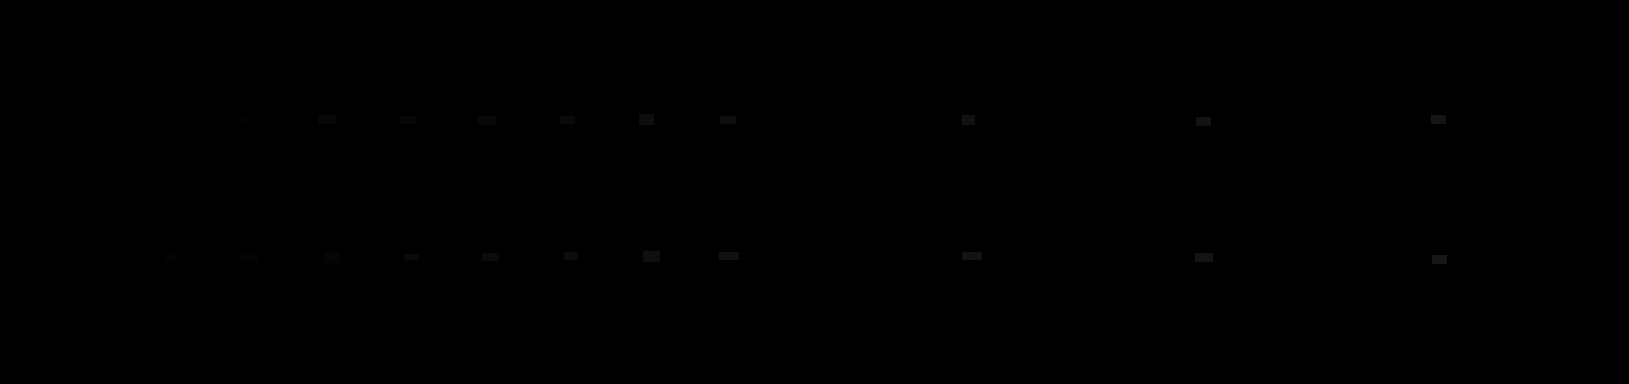light: (643, 251, 660, 262), (719, 252, 739, 260), (962, 252, 982, 260), (324, 252, 340, 263), (639, 114, 655, 125), (1195, 253, 1213, 262), (318, 115, 336, 124), (478, 116, 496, 125), (238, 116, 253, 125), (1196, 117, 1211, 126), (1431, 115, 1446, 124), (1432, 255, 1447, 264), (240, 254, 258, 262), (482, 253, 499, 260), (164, 252, 177, 262), (962, 115, 974, 125), (399, 116, 415, 124), (720, 116, 736, 124), (564, 252, 578, 260), (560, 116, 575, 124), (162, 115, 173, 124), (404, 254, 419, 260)
